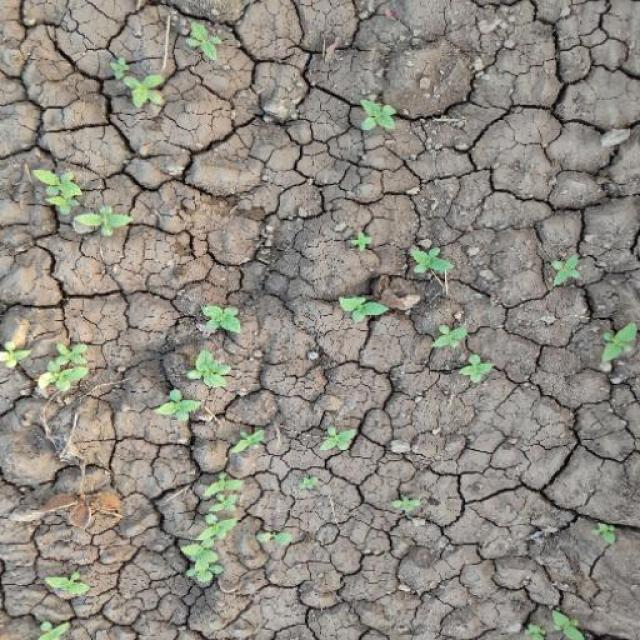crop: (177, 472, 245, 598), (30, 164, 136, 240), (180, 293, 245, 392), (33, 330, 95, 410), (428, 320, 498, 384), (104, 57, 168, 111), (331, 288, 391, 328), (403, 236, 455, 280), (546, 249, 588, 291), (356, 95, 399, 134), (315, 420, 360, 456)
